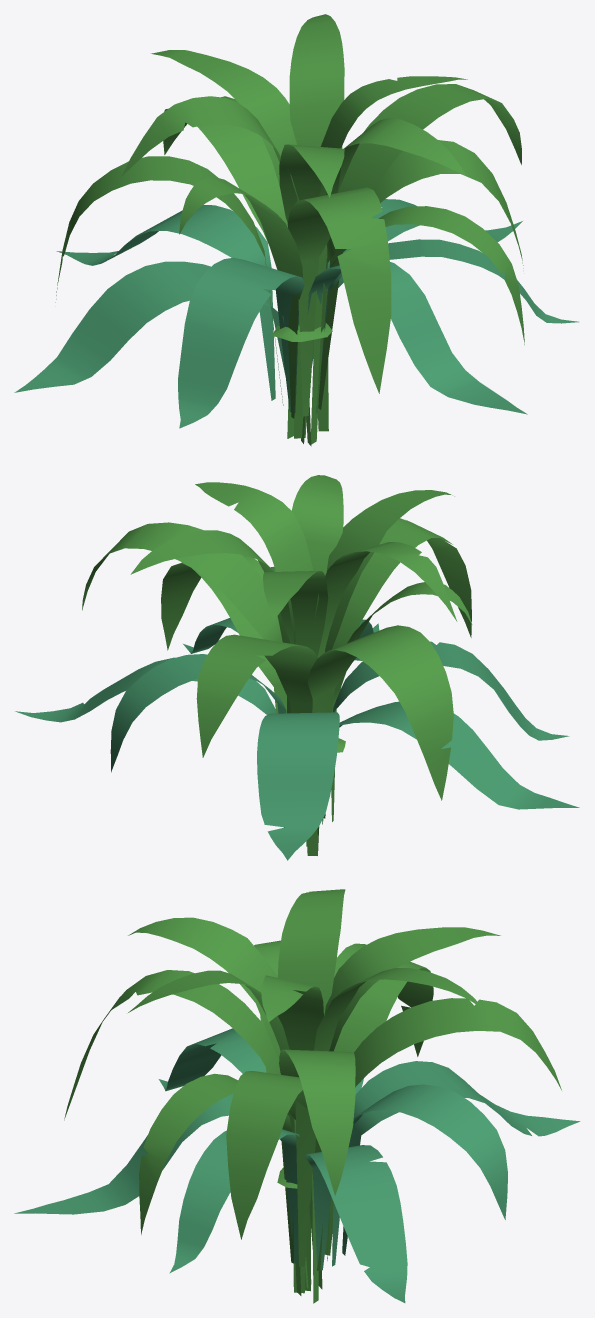
The model's file is plant_dracaena_F.fbx.
3 renders of one model, top to bottom at view 1: azimuth 30°, elevation 25°; view 2: azimuth 150°, elevation 25°; view 3: azimuth 270°, elevation 25°, orthographic. The views are drawn at different scales.
Parts seen in each view (by area): view 1: plant_dracaena_F_leaf_K, plant_dracaena_F_leaf_S, plant_dracaena_F_leaf_P, plant_dracaena_F_leaf_R, plant_dracaena_F_leaf_C, plant_dracaena_F_leaf_G, plant_dracaena_F_leaf_O, plant_dracaena_F_leaf_D, plant_dracaena_F_leaf_H, plant_dracaena_F_leaf_F, plant_dracaena_F_leaf_B, plant_dracaena_F_leaf_J (+8 smaller); view 2: plant_dracaena_F_leaf_I, plant_dracaena_F_leaf_O, plant_dracaena_F_leaf_H, plant_dracaena_F_leaf_G, plant_dracaena_F_leaf_P, plant_dracaena_F_leaf_K, plant_dracaena_F_leaf_A, plant_dracaena_F_leaf_D, plant_dracaena_F_leaf_F, plant_dracaena_F_leaf_B, plant_dracaena_F_leaf_N, plant_dracaena_F_leaf_M (+6 smaller); view 3: plant_dracaena_F_leaf_U, plant_dracaena_F_leaf_G, plant_dracaena_F_leaf_M, plant_dracaena_F_leaf_H, plant_dracaena_F_leaf_N, plant_dracaena_F_leaf_E, plant_dracaena_F_leaf_T, plant_dracaena_F_leaf_L, plant_dracaena_F_leaf_O, plant_dracaena_F_leaf_D, plant_dracaena_F_leaf_F, plant_dracaena_F_leaf_K (+6 smaller).
Part boxes in pixels (<box>): plant_dracaena_F_leaf_K: <box>287,187,391,416</box>; plant_dracaena_F_leaf_S: <box>178,257,304,428</box>; plant_dracaena_F_leaf_P: <box>14,261,285,392</box>; plant_dracaena_F_leaf_R: <box>302,262,527,414</box>; plant_dracaena_F_leaf_C: <box>289,14,344,431</box>; plant_dracaena_F_leaf_G: <box>318,84,521,409</box>; plant_dracaena_F_leaf_O: <box>56,205,275,400</box>; plant_dracaena_F_leaf_D: <box>151,50,296,438</box>; plant_dracaena_F_leaf_H: <box>163,96,287,243</box>; plant_dracaena_F_leaf_F: <box>279,144,344,438</box>; plant_dracaena_F_leaf_B: <box>311,118,466,444</box>; plant_dracaena_F_leaf_J: <box>179,177,303,418</box>; plant_dracaena_F_leaf_I: <box>307,625,453,800</box>; plant_dracaena_F_leaf_O: <box>257,712,339,860</box>; plant_dracaena_F_leaf_H: <box>196,634,318,757</box>; plant_dracaena_F_leaf_G: <box>82,522,282,642</box>; plant_dracaena_F_leaf_P: <box>339,701,579,809</box>; plant_dracaena_F_leaf_K: <box>323,518,471,818</box>; plant_dracaena_F_leaf_A: <box>195,482,312,571</box>; plant_dracaena_F_leaf_D: <box>263,571,328,855</box>; plant_dracaena_F_leaf_F: <box>317,490,454,850</box>; plant_dracaena_F_leaf_B: <box>291,475,343,846</box>; plant_dracaena_F_leaf_N: <box>110,654,286,772</box>; plant_dracaena_F_leaf_M: <box>161,554,286,713</box>; plant_dracaena_F_leaf_U: <box>306,1145,407,1302</box>; plant_dracaena_F_leaf_G: <box>279,1049,355,1266</box>; plant_dracaena_F_leaf_M: <box>226,1071,322,1271</box>; plant_dracaena_F_leaf_H: <box>327,998,561,1260</box>; plant_dracaena_F_leaf_N: <box>332,1084,507,1266</box>; plant_dracaena_F_leaf_E: <box>278,889,345,1293</box>; plant_dracaena_F_leaf_T: <box>169,1129,299,1273</box>; plant_dracaena_F_leaf_L: <box>139,1073,293,1263</box>; plant_dracaena_F_leaf_O: <box>342,1061,580,1255</box>; plant_dracaena_F_leaf_D: <box>318,927,500,1289</box>; plant_dracaena_F_leaf_F: <box>128,917,311,1288</box>; plant_dracaena_F_leaf_K: <box>64,970,280,1120</box>.
Bounding box in the file's own units: 141 × 85.89 × 125.
